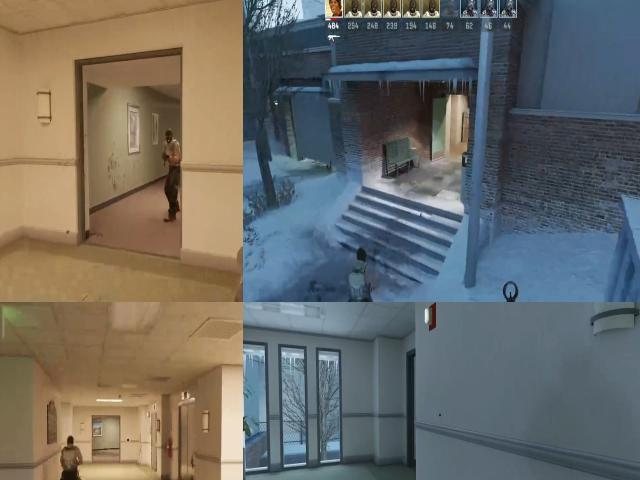T: (343, 252, 377, 302), (157, 125, 181, 188), (57, 433, 82, 479)
T-Head: (354, 243, 370, 266), (162, 126, 176, 150), (64, 435, 76, 452)
